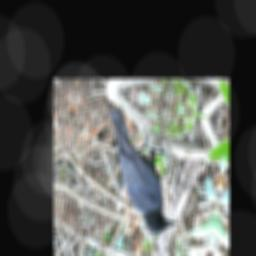Crow: (93, 102, 191, 240)
